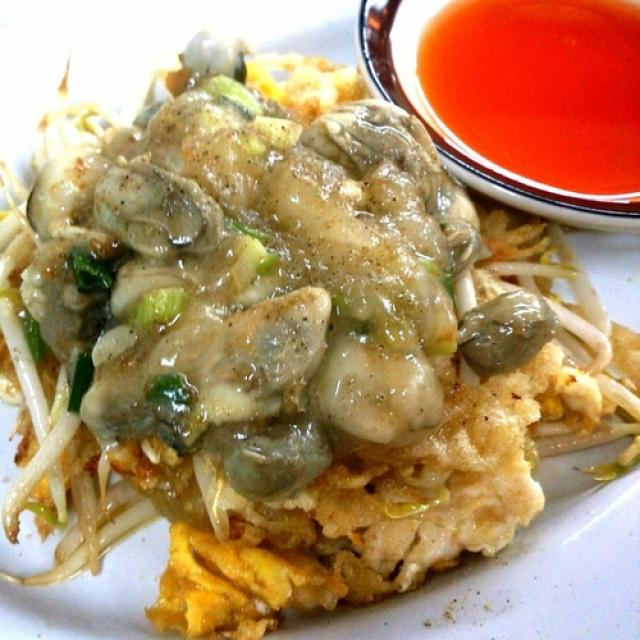炸货点心: (9, 21, 598, 624)
蛋糕甜品: (9, 21, 598, 624)
